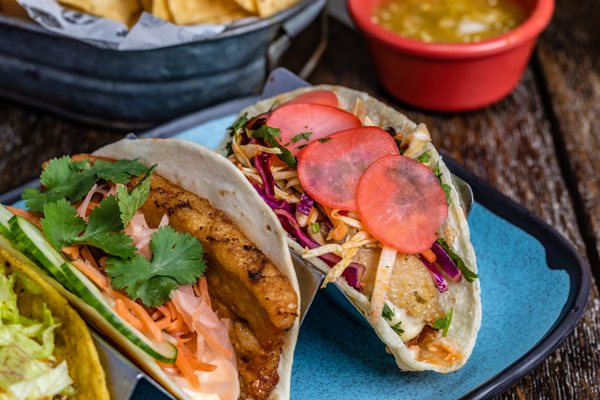soup: (9, 135, 302, 393), (223, 83, 481, 371)
sushi: (0, 1, 325, 133), (346, 0, 556, 114)
